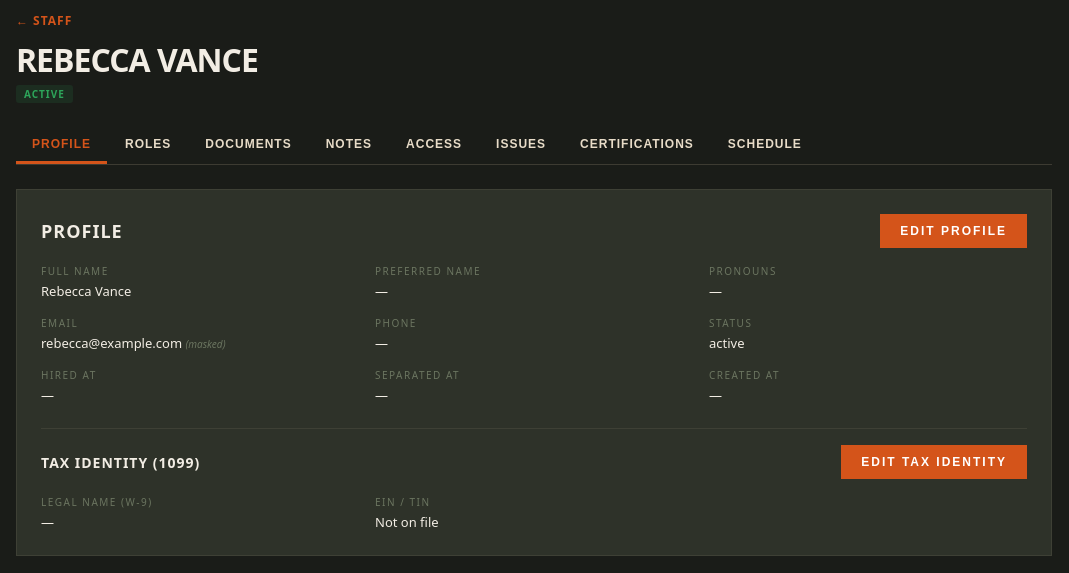
AdminStaffDetail — certification actions › surfaces a revoke failure instead of failing silently
This screenshot has width=1069, height=573.
Expected: the heading "Rebecca Vance" is shown, [16,38,258,81]
Click the button "Certifications". click: (637, 146)
box: [564,127,710,164]
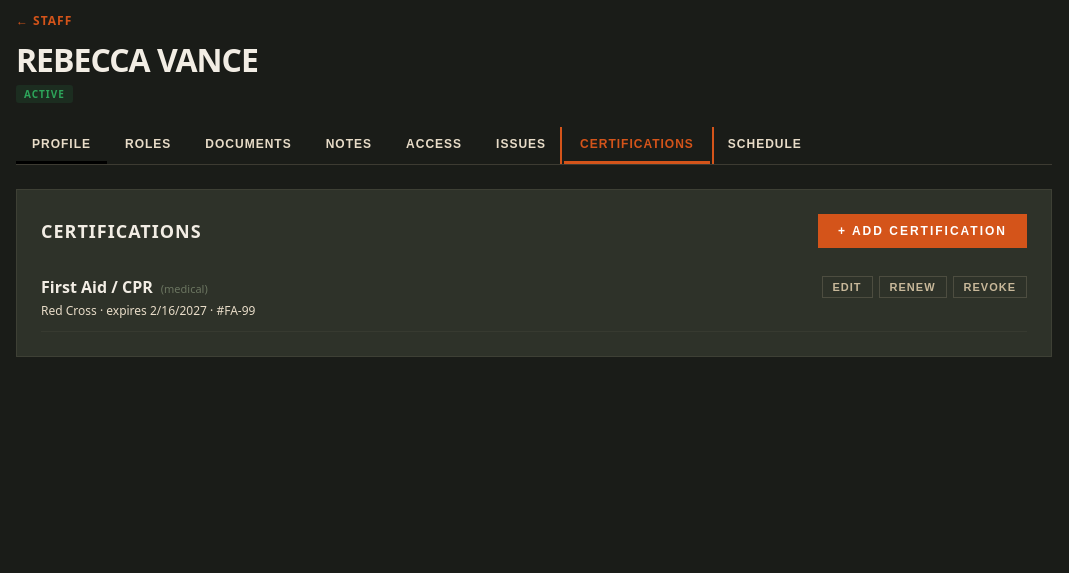
Expected: the text "First Aid / CPR" is shown, [41,276,153,298]
Click the button "Revoke". click: (990, 287)
box: [952,276,1027,298]
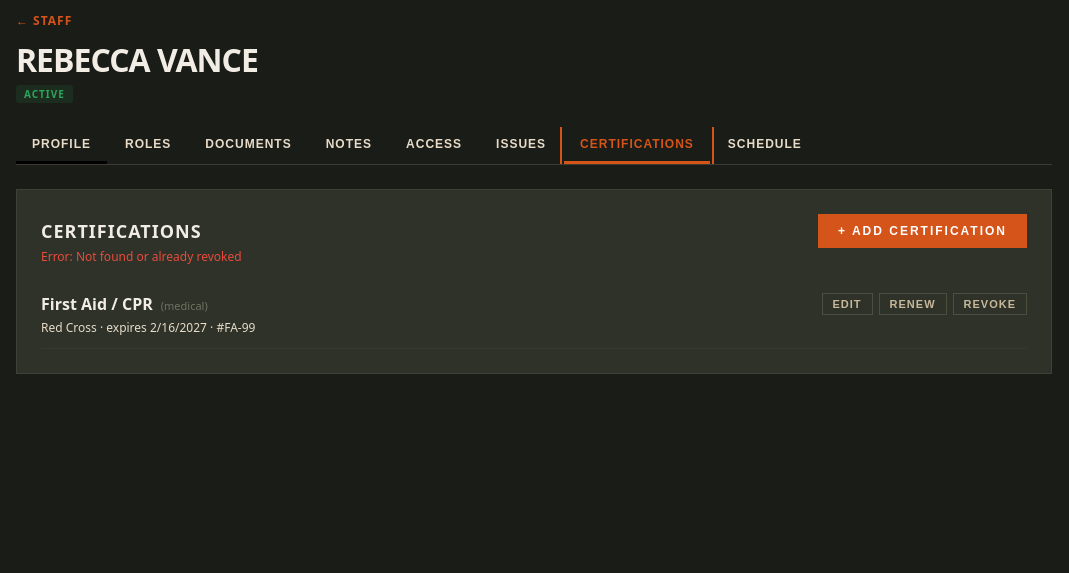
Expected: the text "Error: Not found or already revoked" is shown, [41,248,242,265]
